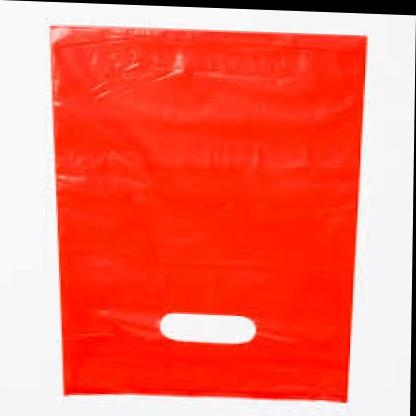trash: (52, 27, 365, 401)
